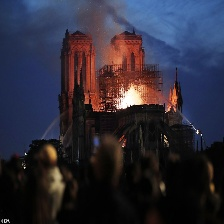fire: (114, 88, 146, 112)
smoke: (77, 2, 131, 67)
